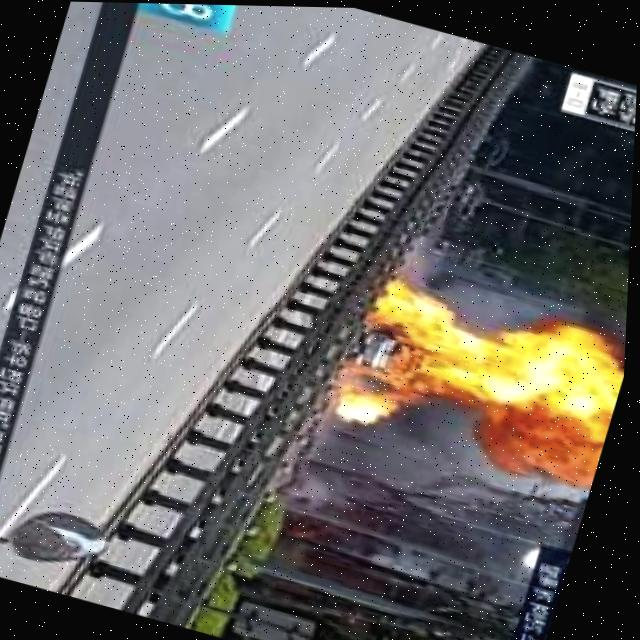Fire: (482, 304, 630, 485), (335, 272, 460, 436), (431, 319, 515, 411)
